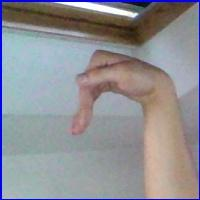del: (62, 41, 175, 144)
